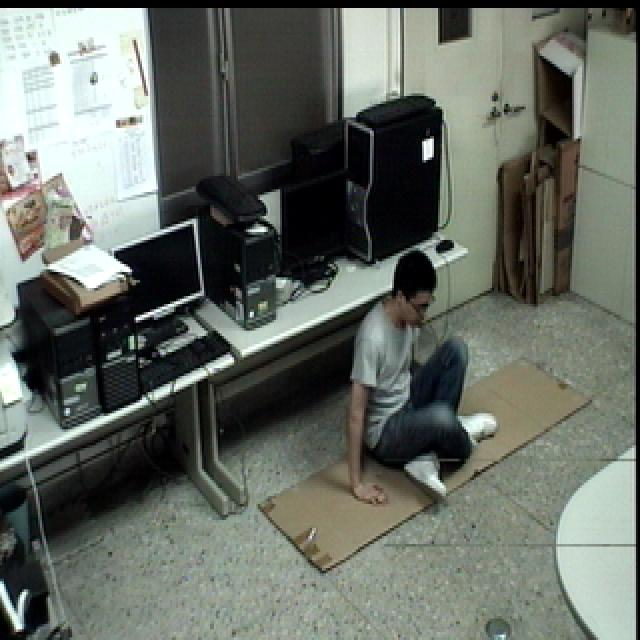sit: (340, 248, 507, 511)
